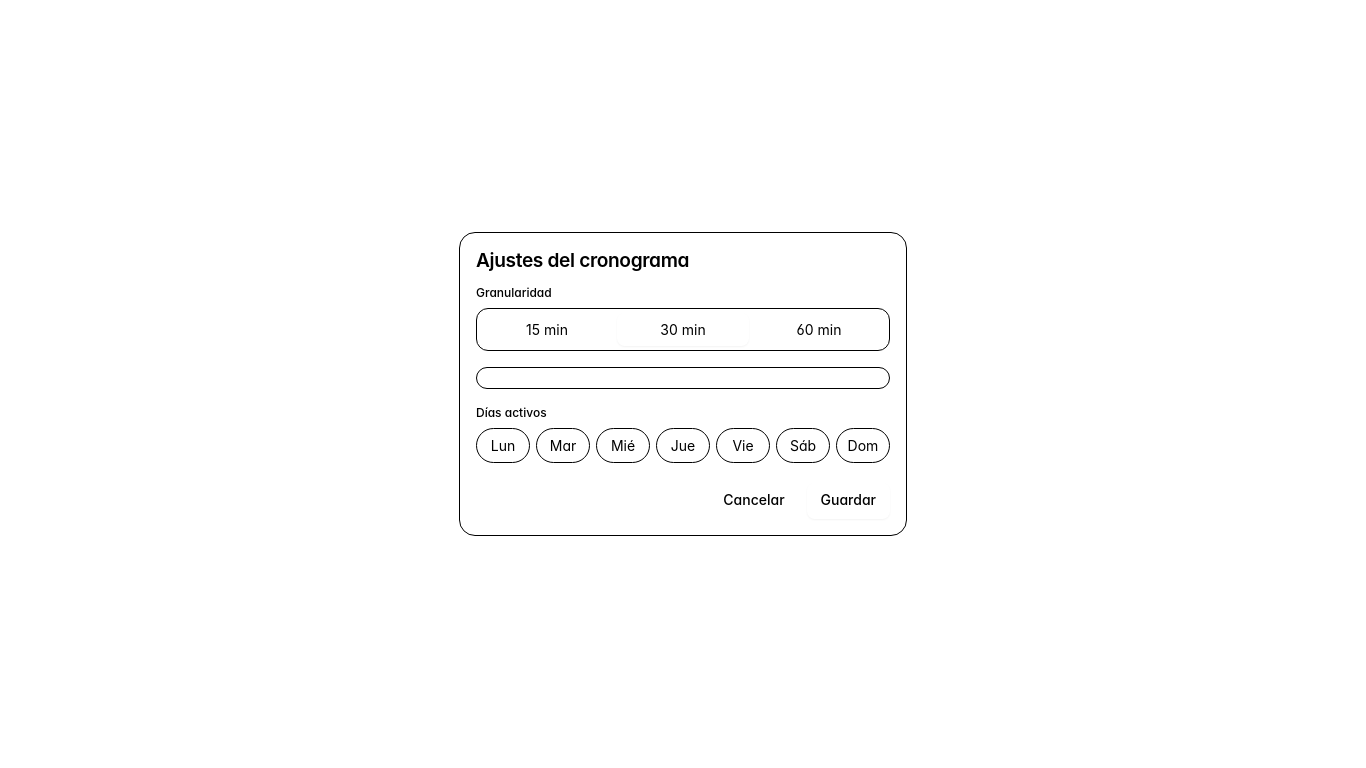
WeeklyScheduleSettingsModal › no permite quedarse sin días activos
The width and height of the screenshot is (1366, 768).
Step 1. Click the button "Lun" → (503, 445), box [476,428,530,463]
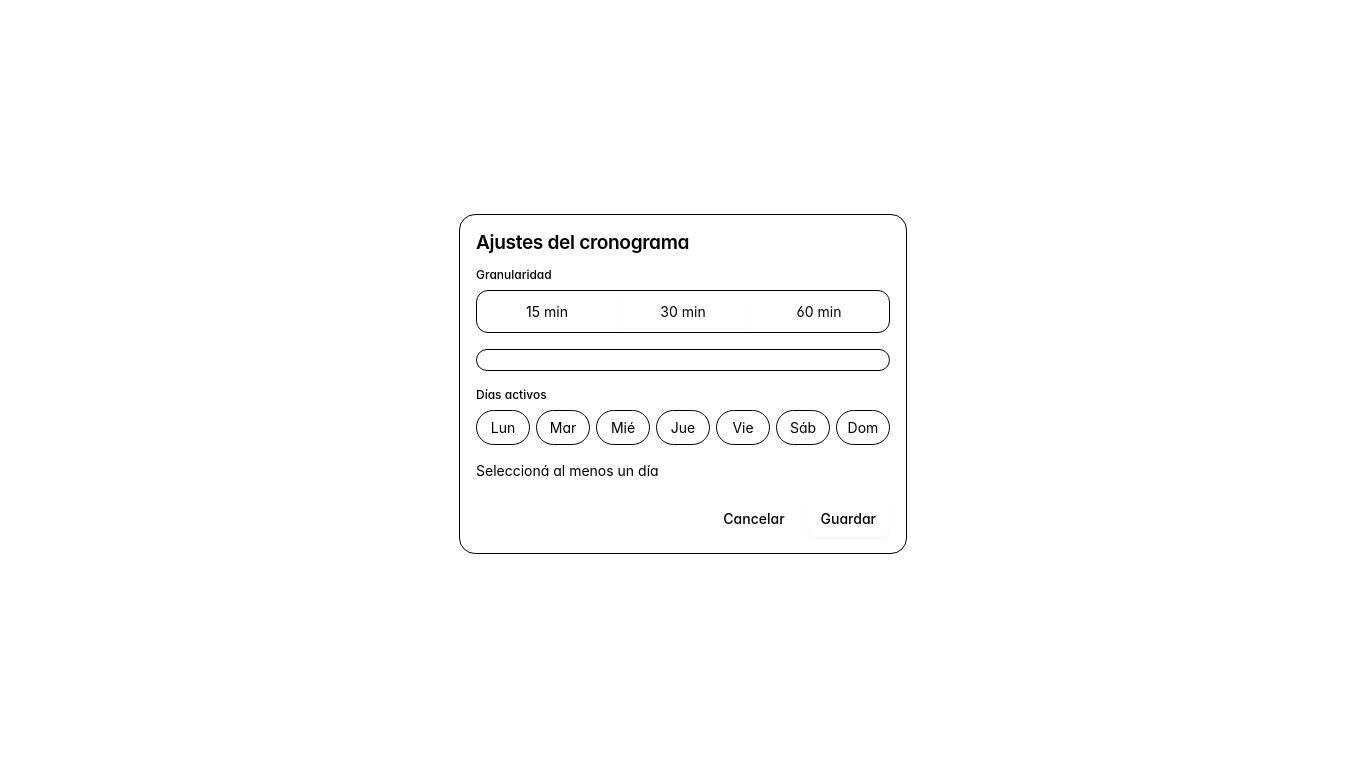
Check: the text "Seleccioná al menos un día" is shown, box [476,462,659,479]
